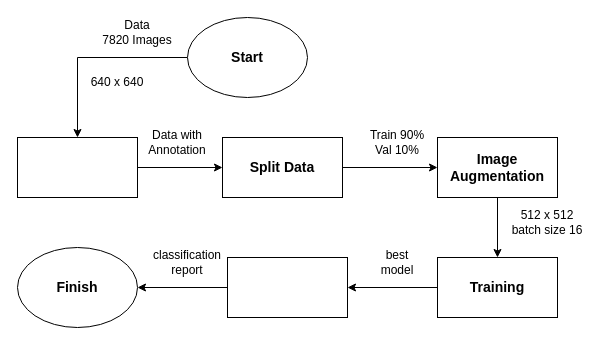
This 605x345 diagram has some shape labels left out. Here are the shapes that lost their labels. From the top down, the box of each, then its label:
(16, 136, 138, 198): Labelling
(226, 256, 348, 318): Testing
